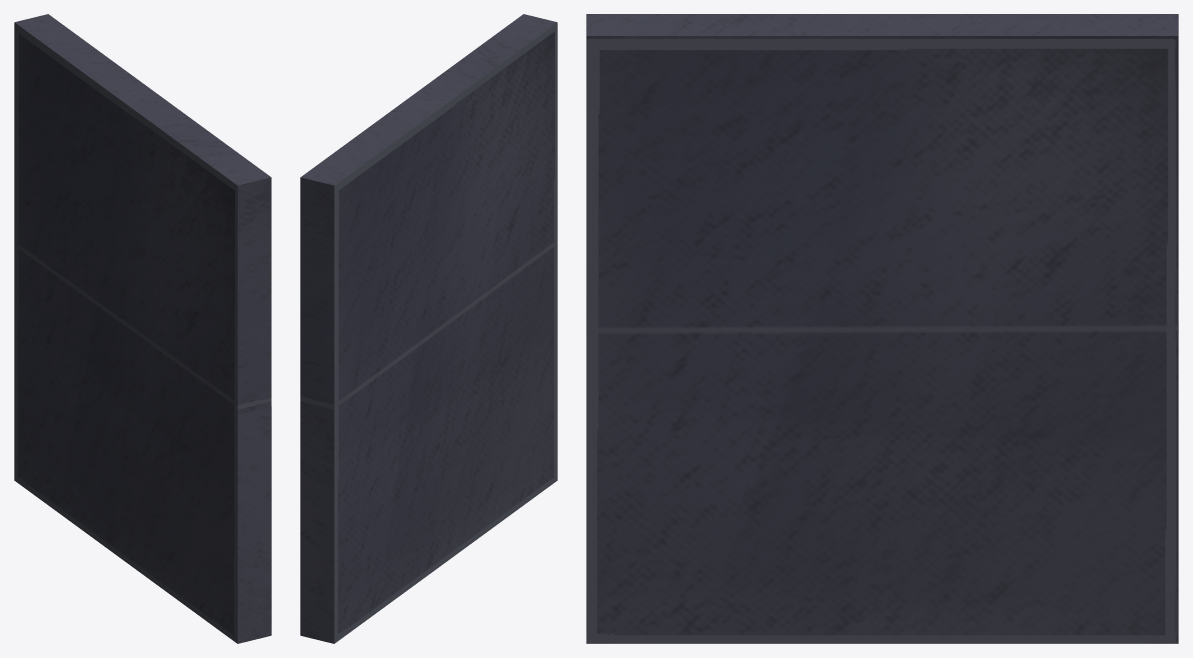
File: wall_one_FBX .fbx
3 views of the same model, side by side, from view 1: azimuth 30°, elevation 25°; view 2: azimuth 150°, elevation 25°; view 3: azimuth 270°, elevation 25° (orthographic). The views are drawn at different scales.
Visible parts, largest first — view 1: Wall.006; view 2: Wall.006; view 3: Wall.006.
Part boxes in pixels (left/top/right/bottom): Wall.006: left=14, top=14, right=271, bottom=643; Wall.006: left=300, top=14, right=557, bottom=643; Wall.006: left=586, top=14, right=1178, bottom=643.
Size of the model in its own units: 39.33 by 508 by 449.
